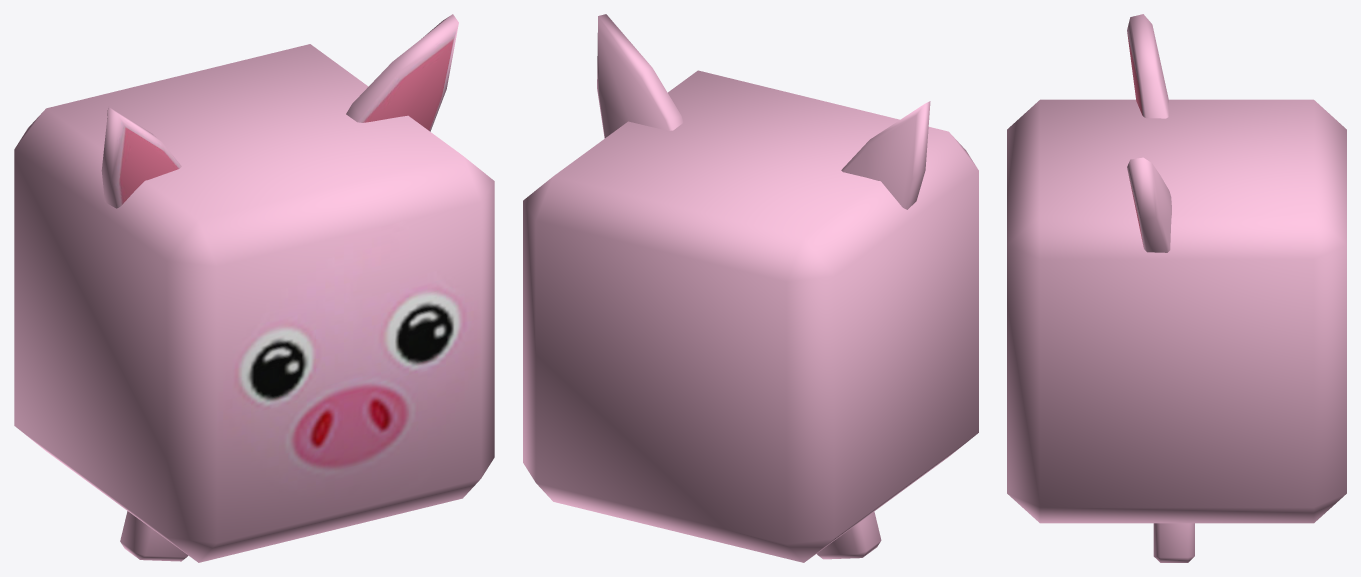
The model's file is chongwu3.FBX.
3 renders of one model, left to right at view 1: azimuth 30°, elevation 25°; view 2: azimuth 150°, elevation 25°; view 3: azimuth 270°, elevation 25°, orthographic. The views are drawn at different scales.
Visible parts, largest first — view 1: chongwu003; view 2: chongwu003; view 3: chongwu003.
Boxes of the visible parts, <box> form: chongwu003: <box>14,14,494,562</box>; chongwu003: <box>523,14,978,562</box>; chongwu003: <box>1007,14,1346,562</box>.
Size of the model in its own units: 47.25 by 64.22 by 44.91.
1 material, 1 textured.
